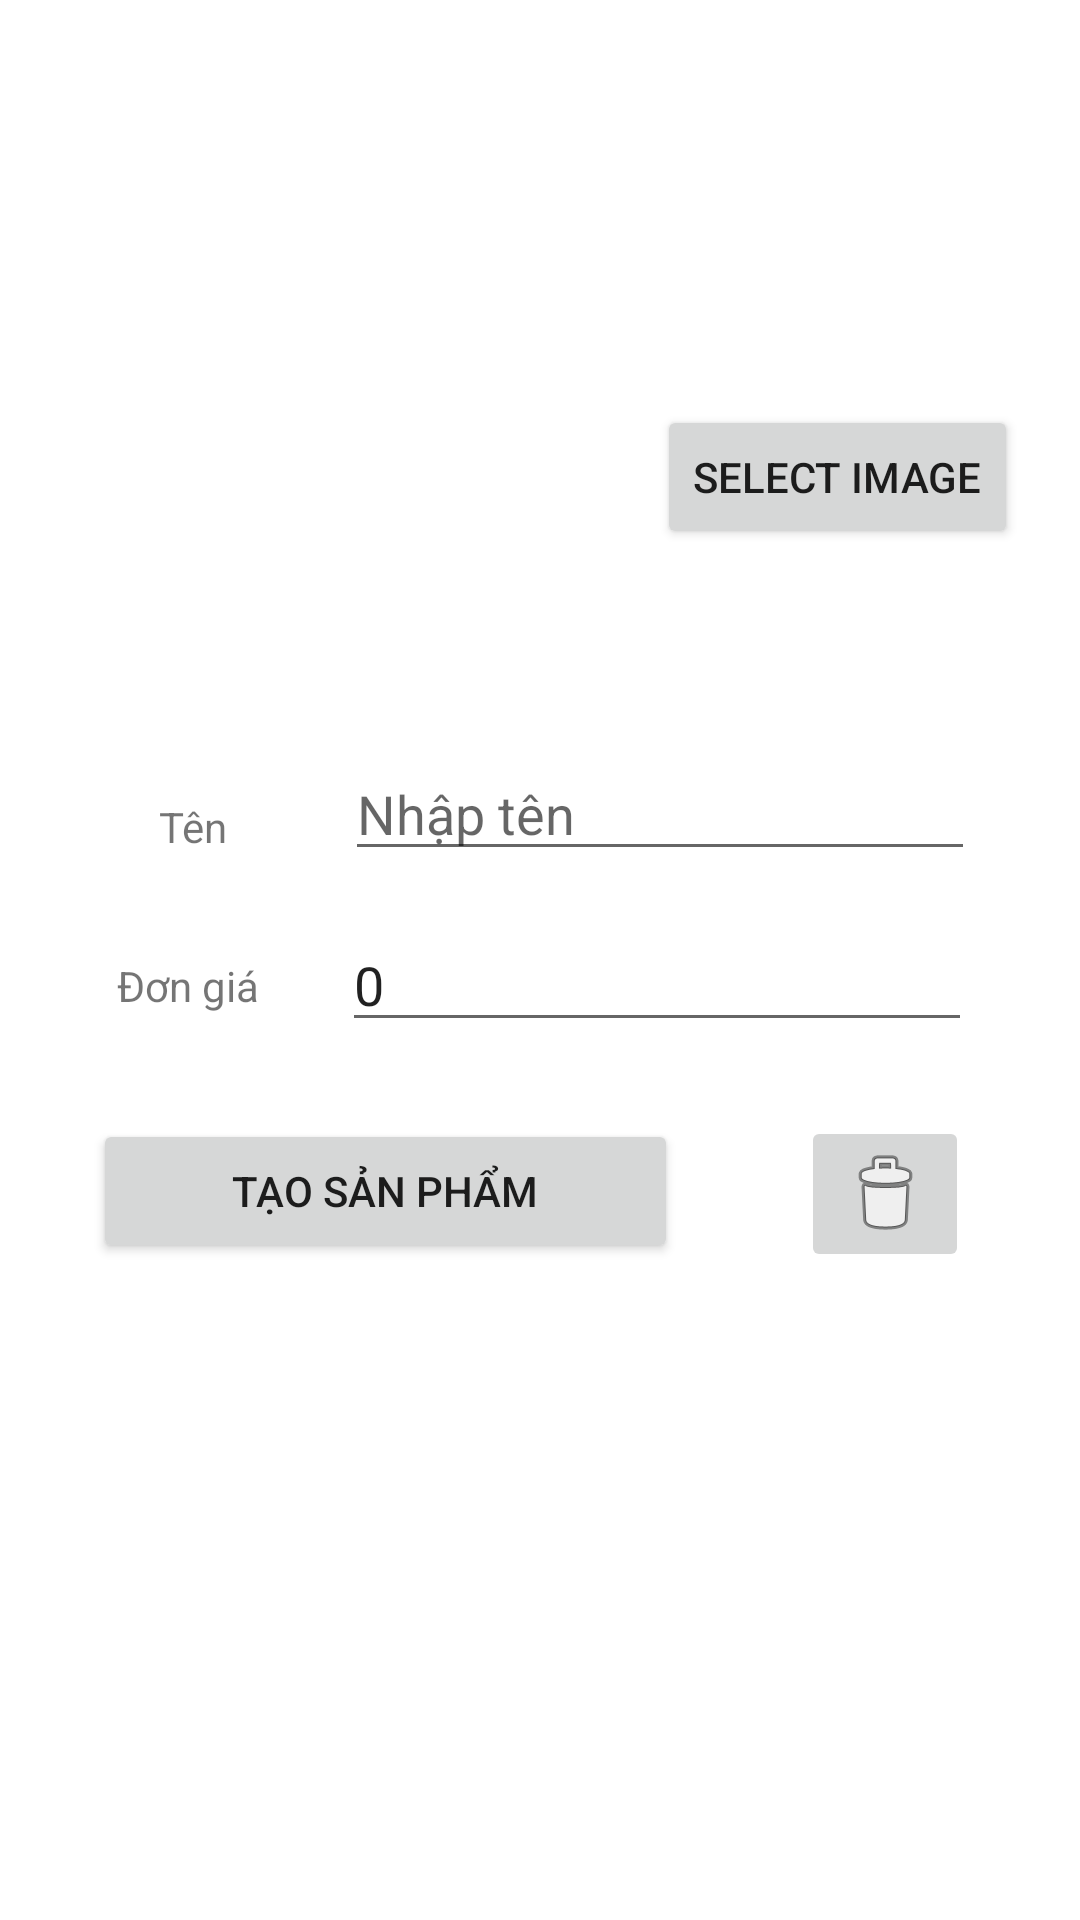

Icons on this 1080x1920 Android screen, each with its box as (x1=x1, y1=y1, x2=x2, y2=y2):
delete: (x1=813, y1=1134, x2=957, y2=1254)
